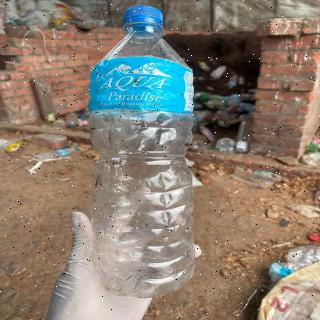Plastic-bottle: (87, 4, 200, 300)
